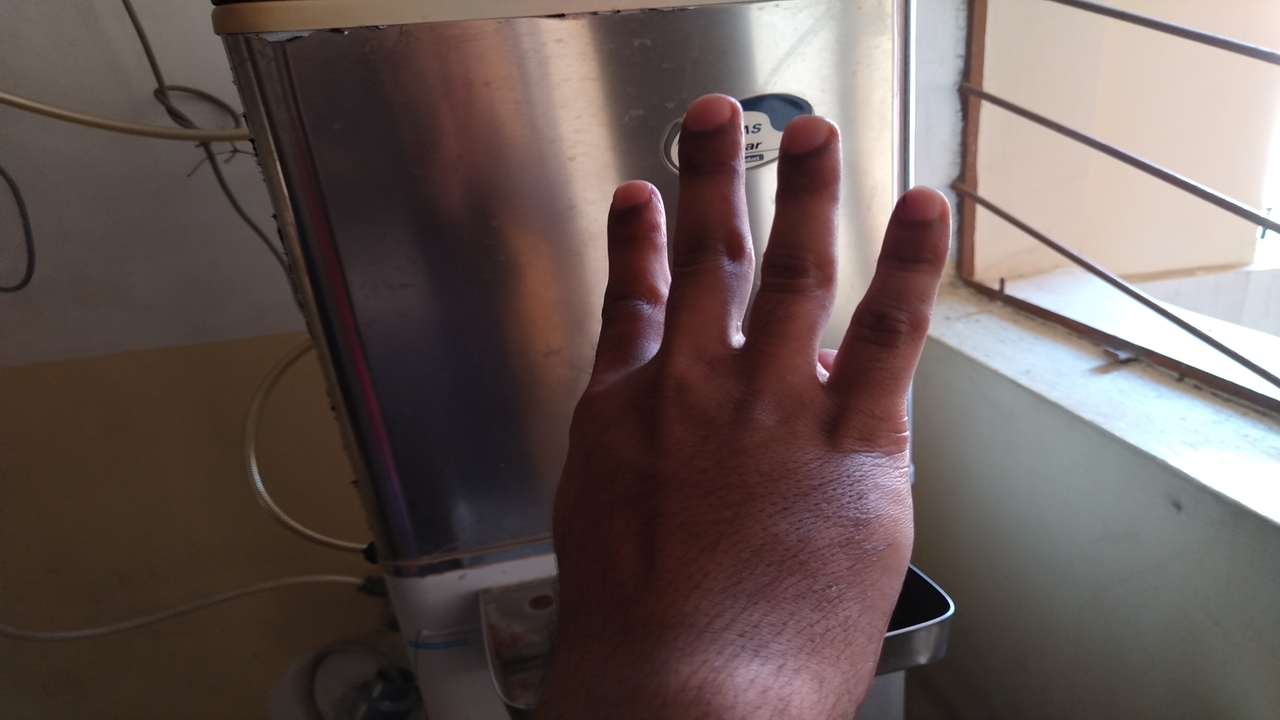fingertip: (672, 88, 748, 156), (886, 178, 954, 246), (780, 102, 846, 172), (600, 170, 664, 230)
